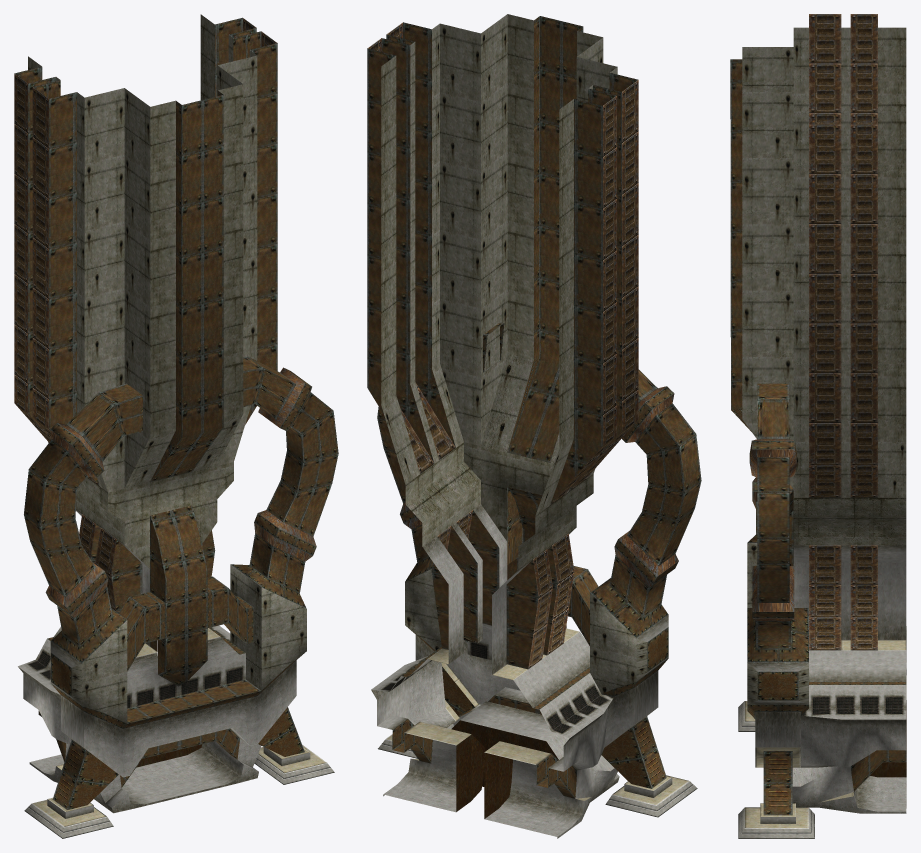
File: FORGE_STRUCTURE.fbx
3 views of the same model, side by side, from view 1: azimuth 30°, elevation 25°; view 2: azimuth 150°, elevation 25°; view 3: azimuth 270°, elevation 25° (orthographic). The views are drawn at different scales.
Visible parts, largest first — view 1: FORGE_STRUCTURE; view 2: FORGE_STRUCTURE; view 3: FORGE_STRUCTURE.
Part boxes in pixels (x1,y1,x2,y2): FORGE_STRUCTURE: (14, 14, 338, 838); FORGE_STRUCTURE: (367, 14, 701, 838); FORGE_STRUCTURE: (730, 14, 906, 838).
Bounding box in the file's own units: 138518 × 314264 × 71287.
14 materials, 14 textured.
